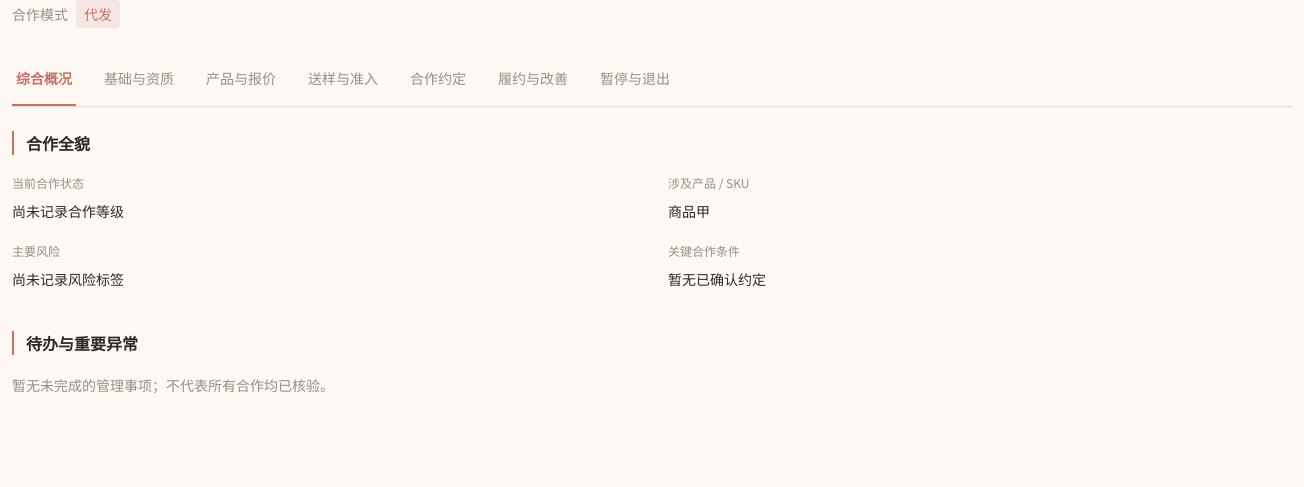
Test case: hides inbound performance payload for a dropship-only supplier
Click the button "履约与改善": (533,79) left=494, top=52, right=572, bottom=106
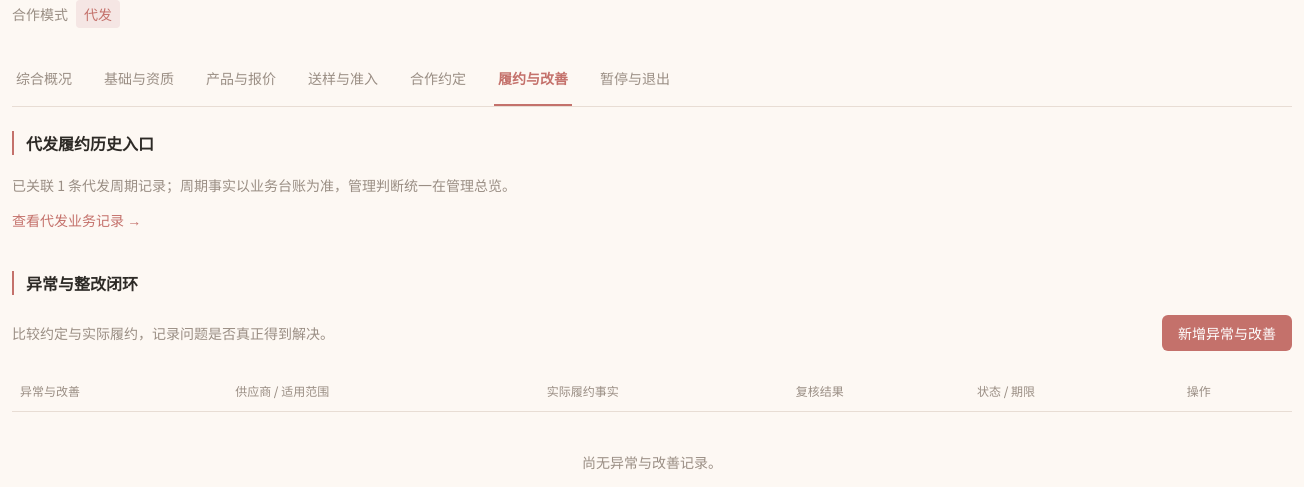
Now the heading "代发履约历史入口" is shown, box left=12, top=131, right=154, bottom=155
